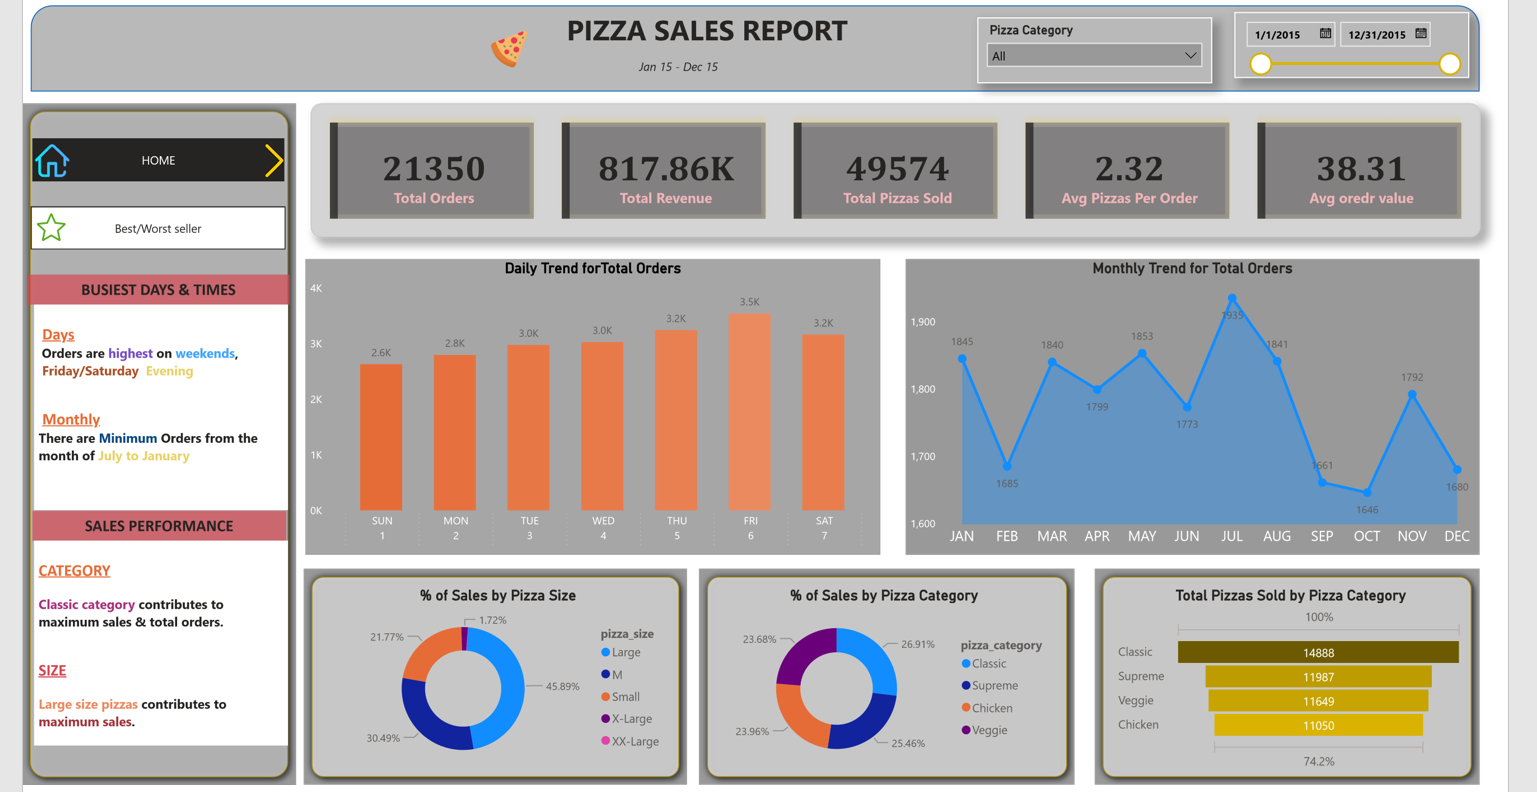

What the dashboard file says about the page in this screenshot:
{"tool":"powerbi","page":{"name":"HOME","canvas":[1700,1100],"ordinal":0},"visuals":[{"type":"cardVisual","fields":{"Data":["pizza_sales.Total Orders","pizza_sales.Total Revenue","pizza_sales.Total Pizzas Sold","pizza_sales.Avg Pizzas Per Order","pizza_sales.Avg oredr value"]},"box":[329.4,111.8,1336.8,152.9],"z":0},{"type":"shape","box":[0,111.8,313.2,779.4],"z":1000},{"type":"shape","box":[10.3,0,1655.9,98.5],"z":2000},{"type":"textbox","box":[652.9,55.9,197.1,55.9],"z":3000},{"type":"textbox","box":[555.9,0,454.4,55.9],"z":4000},{"type":"textbox","box":[11.8,577.9,289.7,33.8],"z":5000},{"type":"image","box":[529.4,7.4,54.4,83.8],"z":6000},{"type":"shape","box":[322.1,644.1,438.2,247.1],"z":7000},{"type":"columnChart","title":"Daily Trend forTotal Orders ","fields":{"Category":["pizza_sales.Day Number","pizza_sales.Order day"],"Y":["pizza_sales.Total Orders"]},"box":[323.5,289.7,657.4,338.2],"z":8000},{"type":"areaChart","title":"Monthly Trend for Total Orders ","fields":{"Category":["pizza_sales.Order Month"],"Y":["pizza_sales.Total Orders"]},"box":[1010.3,289.7,655.9,338.2],"z":9000},{"type":"shape","box":[773.5,644.1,429.4,247.1],"z":10000},{"type":"shape","box":[1226.5,644.1,439.7,247.1],"z":11000},{"type":"donutChart","title":"% of Sales by Pizza Category","fields":{"Category":["pizza_sales.pizza_category"],"Y":["pizza_sales.Total Revenue"]},"box":[783.8,663.2,402.9,214.7],"z":12000},{"type":"donutChart","title":"% of Sales by Pizza Size","fields":{"Category":["pizza_sales.pizza_size"],"Y":["pizza_sales.Total Revenue"]},"box":[342.6,663.2,404.4,214.7],"z":13000},{"type":"funnel","title":"Total Pizzas Sold by Pizza Category","fields":{"Category":["pizza_sales.pizza_category"],"Y":["pizza_sales.Total Pizzas Sold"]},"box":[1248.5,663.2,404.4,214.7],"z":14000},{"type":"textbox","box":[13.2,342.6,289.7,235.3],"z":15000},{"type":"textbox","box":[14.7,611.8,289.7,233.8],"z":16000},{"type":"textbox","box":[5.9,307.4,300,33.8],"z":17000},{"type":"slicer","fields":{"Values":["pizza_sales.pizza_category"]},"box":[1092.6,13.2,267.6,75],"z":18000},{"type":"slicer","fields":{"Values":["pizza_sales.order_date"]},"box":[1385.3,8.8,267.6,75],"z":19000},{"type":"pageNavigator","box":[11.8,152.9,288.2,50],"z":19001},{"type":"pageNavigator","box":[10.3,229.4,291.2,50],"z":19002},{"type":"image","box":[264.7,144.1,48.5,67.6],"z":19003},{"type":"image","box":[10.3,150,48.5,54.4],"z":19004},{"type":"image","box":[0,232.4,66.2,42.6],"z":19005}]}

Visuals, with their boxes on the page's 1700x1100 design canvas (x1, y1, x2, y2). These are canvas units, not pixel positions in the 1537x792 screenshot, which may show the page scaled, cropped or inside an application window:
cardVisual - pizza_sales.Total Orders x pizza_sales.Total Revenue: {"x1": 329, "y1": 112, "x2": 1666, "y2": 265}
shape: {"x1": 0, "y1": 112, "x2": 313, "y2": 891}
shape: {"x1": 10, "y1": 0, "x2": 1666, "y2": 98}
textbox: {"x1": 653, "y1": 56, "x2": 850, "y2": 112}
textbox: {"x1": 556, "y1": 0, "x2": 1010, "y2": 56}
textbox: {"x1": 12, "y1": 578, "x2": 302, "y2": 612}
image: {"x1": 529, "y1": 7, "x2": 584, "y2": 91}
shape: {"x1": 322, "y1": 644, "x2": 760, "y2": 891}
"Daily Trend forTotal Orders " columnChart: {"x1": 324, "y1": 290, "x2": 981, "y2": 628}
"Monthly Trend for Total Orders " areaChart: {"x1": 1010, "y1": 290, "x2": 1666, "y2": 628}
shape: {"x1": 774, "y1": 644, "x2": 1203, "y2": 891}
shape: {"x1": 1226, "y1": 644, "x2": 1666, "y2": 891}
"% of Sales by Pizza Category" donutChart: {"x1": 784, "y1": 663, "x2": 1187, "y2": 878}
"% of Sales by Pizza Size" donutChart: {"x1": 343, "y1": 663, "x2": 747, "y2": 878}
"Total Pizzas Sold by Pizza Category" funnel: {"x1": 1248, "y1": 663, "x2": 1653, "y2": 878}
textbox: {"x1": 13, "y1": 343, "x2": 303, "y2": 578}
textbox: {"x1": 15, "y1": 612, "x2": 304, "y2": 846}
textbox: {"x1": 6, "y1": 307, "x2": 306, "y2": 341}
slicer - pizza_sales.pizza_category: {"x1": 1093, "y1": 13, "x2": 1360, "y2": 88}
slicer - pizza_sales.order_date: {"x1": 1385, "y1": 9, "x2": 1653, "y2": 84}
pageNavigator: {"x1": 12, "y1": 153, "x2": 300, "y2": 203}
pageNavigator: {"x1": 10, "y1": 229, "x2": 302, "y2": 279}
image: {"x1": 265, "y1": 144, "x2": 313, "y2": 212}
image: {"x1": 10, "y1": 150, "x2": 59, "y2": 204}
image: {"x1": 0, "y1": 232, "x2": 66, "y2": 275}
